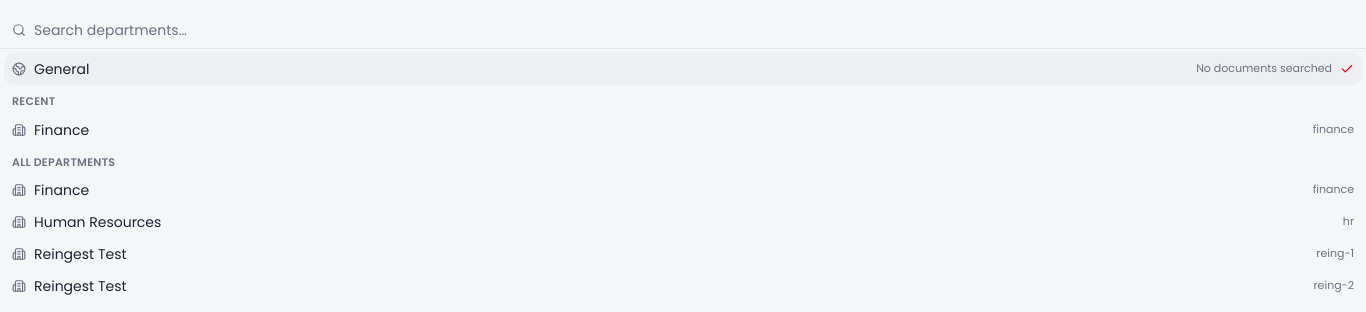
DepartmentScopeList › drops the recents section while a search is active
Type "finance" into the search field labelled "Search departments…" at (694, 30), box [34,12,1354,48]
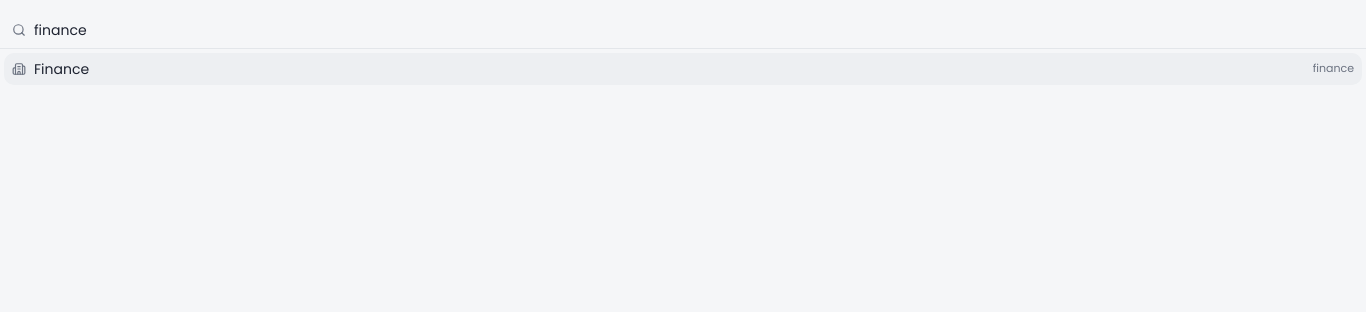
Now the text "Recent" is gone
